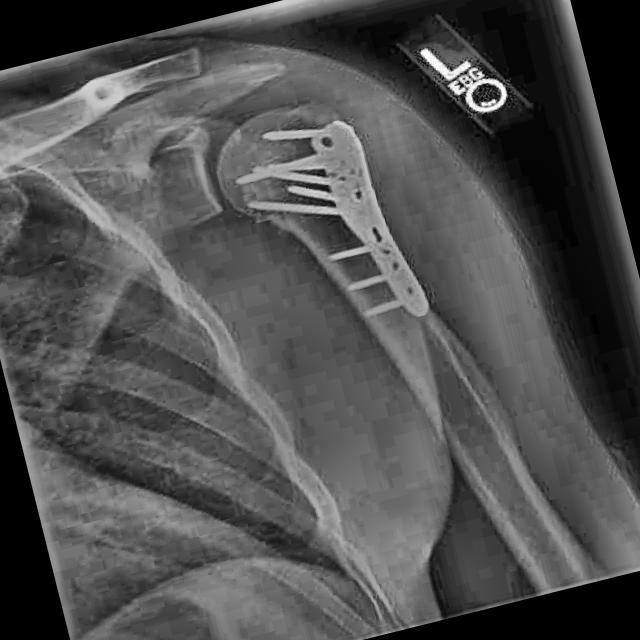shoulder fracture: (226, 100, 356, 258)
